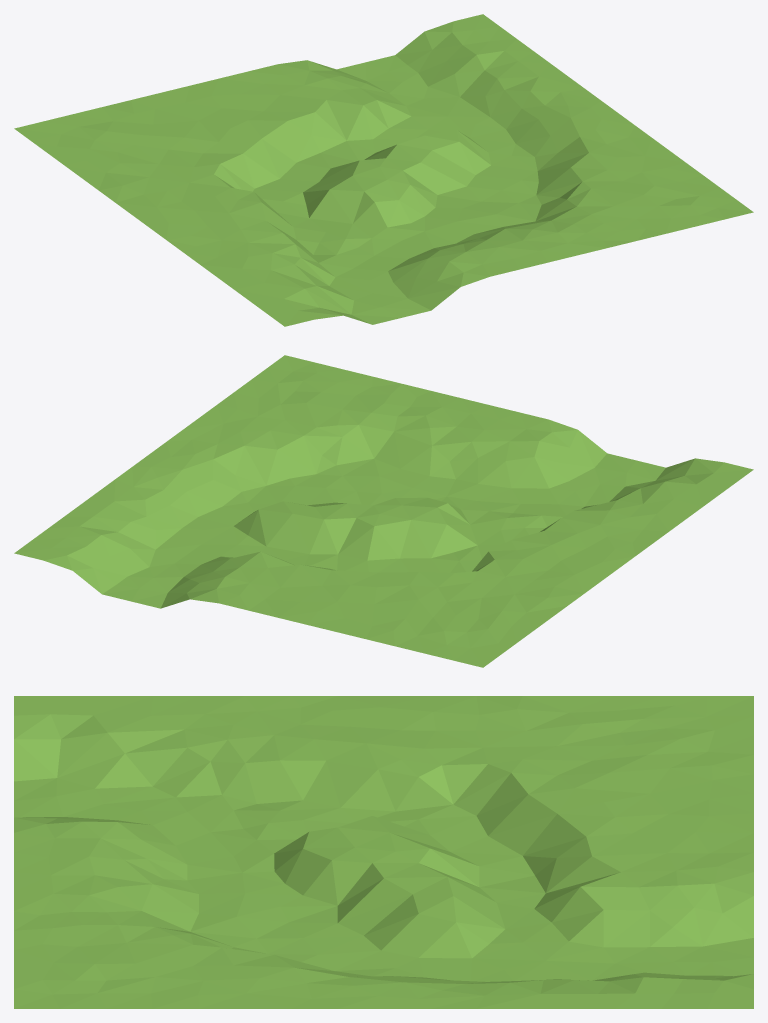
The model's file is MT_River_M_c_04_LOD.fbx.
3 views of the same model, one above another, from view 1: azimuth 30°, elevation 25°; view 2: azimuth 150°, elevation 25°; view 3: azimuth 270°, elevation 25° (orthographic). The views are drawn at different scales.
Parts seen in each view (by area): view 1: MT_River_M_c_04_LOD0; view 2: MT_River_M_c_04_LOD0; view 3: MT_River_M_c_04_LOD0.
Part boxes in pixels (x1,y1,x2,y2): MT_River_M_c_04_LOD0: [14, 14, 753, 326]; MT_River_M_c_04_LOD0: [14, 355, 753, 667]; MT_River_M_c_04_LOD0: [14, 696, 753, 1008].
Size of what is drawn, in the model's own units: 5000 by 233 by 5000.
